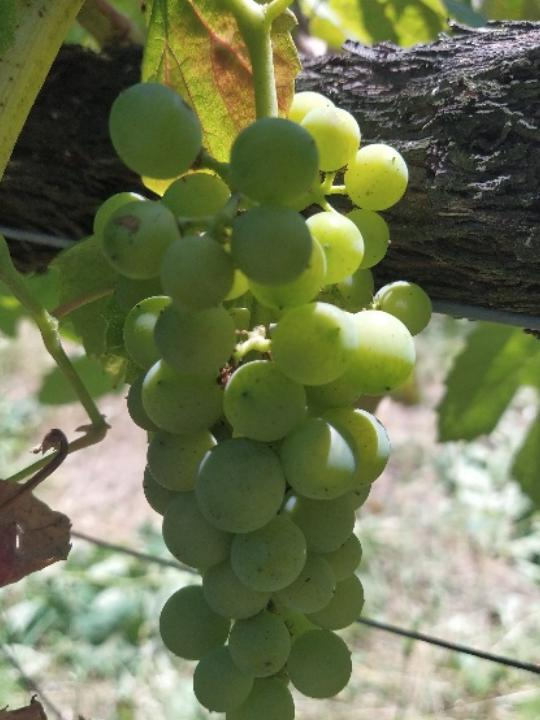grape: (92, 79, 431, 720)
